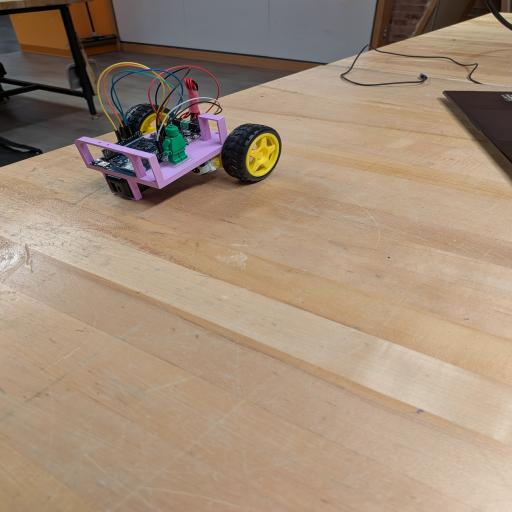Minifig: (163, 125, 187, 164)
